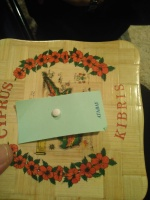Yuvarlak Buskopan: (51, 108, 61, 118)
